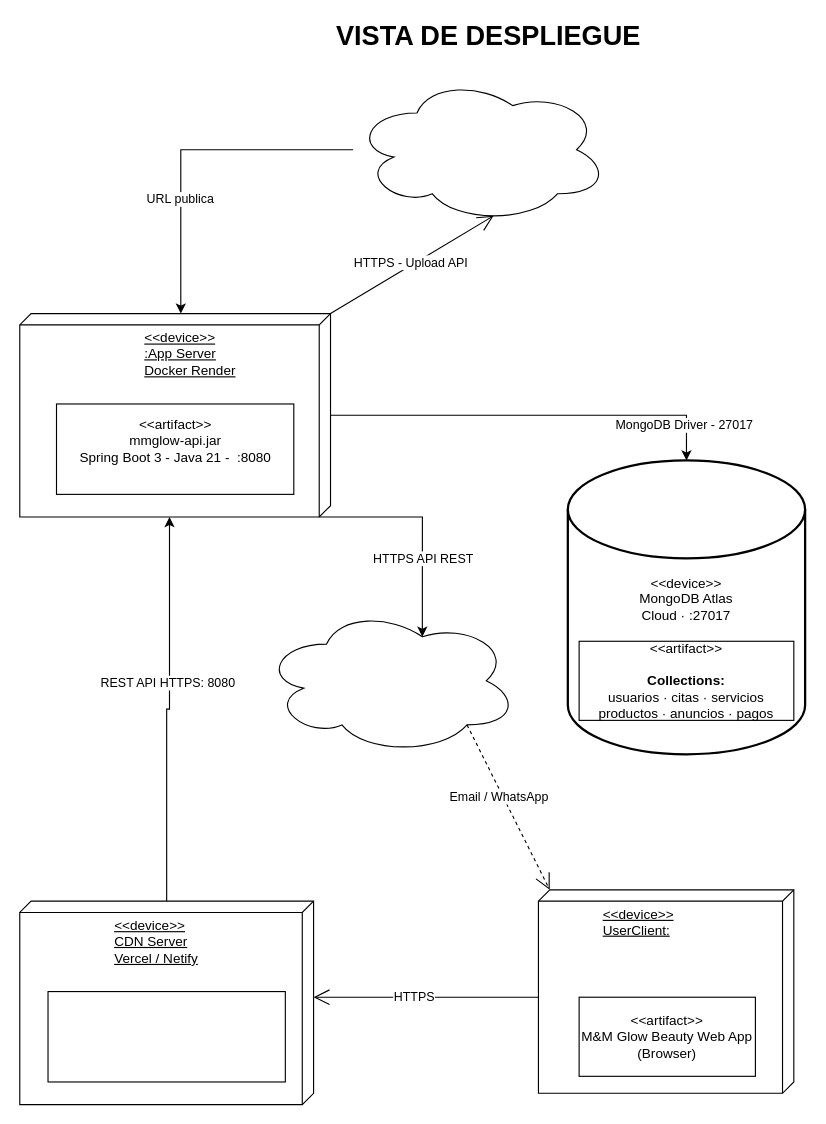
The diagram is 826 pixels wide and 1124 high, and some of its shapes have lost their labels. Here are the shapes that lost their labels. From the top down, the centre of each, then its label:
the point at 480,149: <<cloud>> :Almacenamiento Cloudinary / S3
the point at 390,680: <<cloud>> Notificaciones SendGrid Twilio
the point at 166,1036: <<artifact>> React + Vite build
